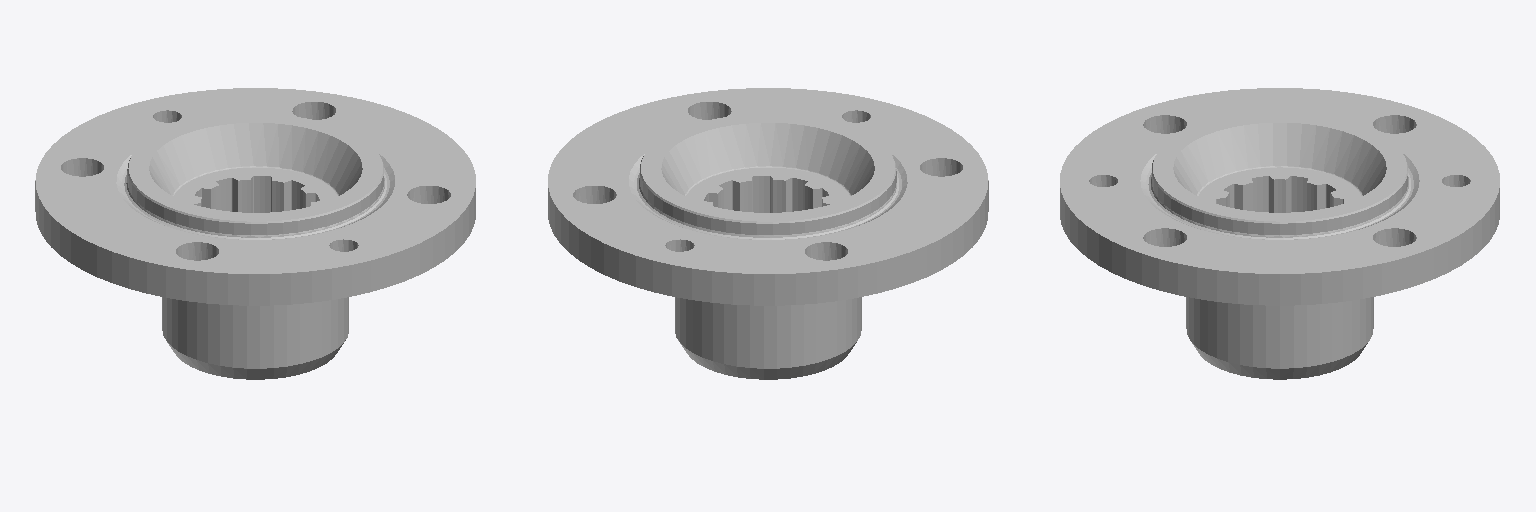
The model's file is 65. Муфта вторичного вала.obj.
The picture shows the model from 3 angles: view 1: azimuth 30°, elevation 25°; view 2: azimuth 150°, elevation 25°; view 3: azimuth 270°, elevation 25°; orthographic projection.
Visible parts, largest first — view 1: Твердое тело1; view 2: Твердое тело1; view 3: Твердое тело1.
Boxes of the visible parts, x1,y1,x2,y2 form: Твердое тело1: [35, 88, 475, 379]; Твердое тело1: [548, 88, 988, 379]; Твердое тело1: [1060, 88, 1499, 379].
Bounding box in the file's own units: 120 × 53 × 120.